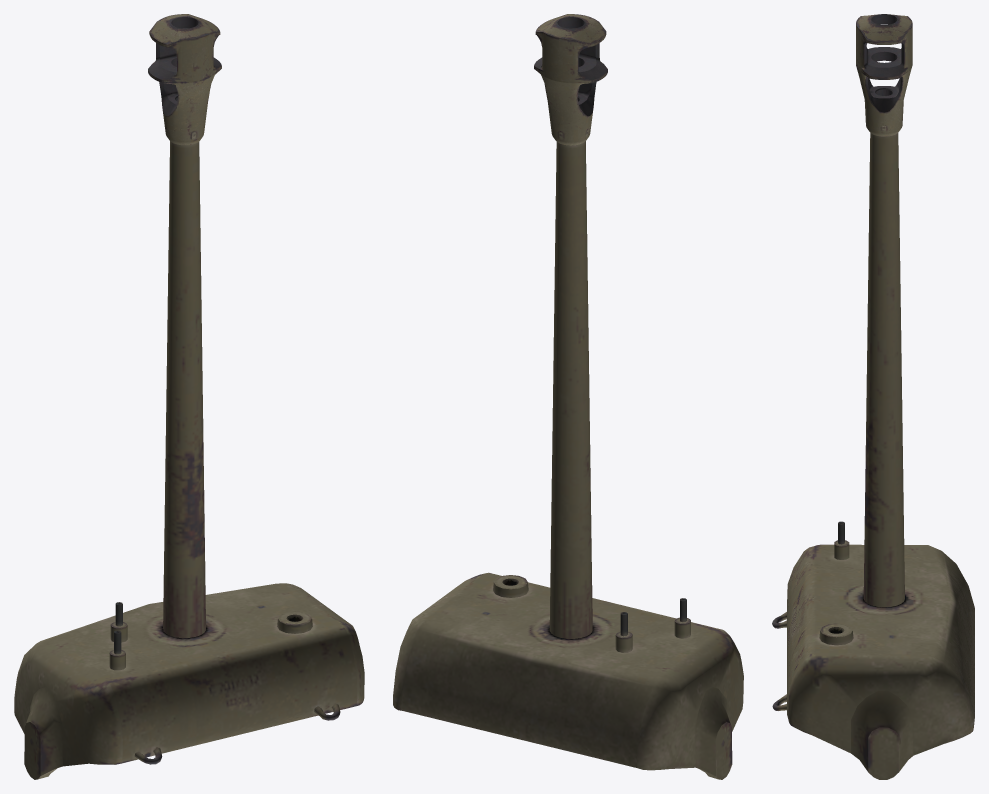
The model's file is Gun_01.glb.
3 renders of one model, left to right at view 1: azimuth 30°, elevation 25°; view 2: azimuth 150°, elevation 25°; view 3: azimuth 270°, elevation 25°, orthographic. The views are drawn at different scales.
Parts seen in each view (by area): view 1: set_0_group_0; view 2: set_0_group_0; view 3: set_0_group_0.
Boxes of the visible parts, x1,y1,x2,y2 form: set_0_group_0: (14, 14, 364, 779); set_0_group_0: (393, 14, 743, 779); set_0_group_0: (772, 14, 974, 779).
Size of the model in its own units: 1.55 by 3.4 by 0.9106.
1 material, 1 textured.
